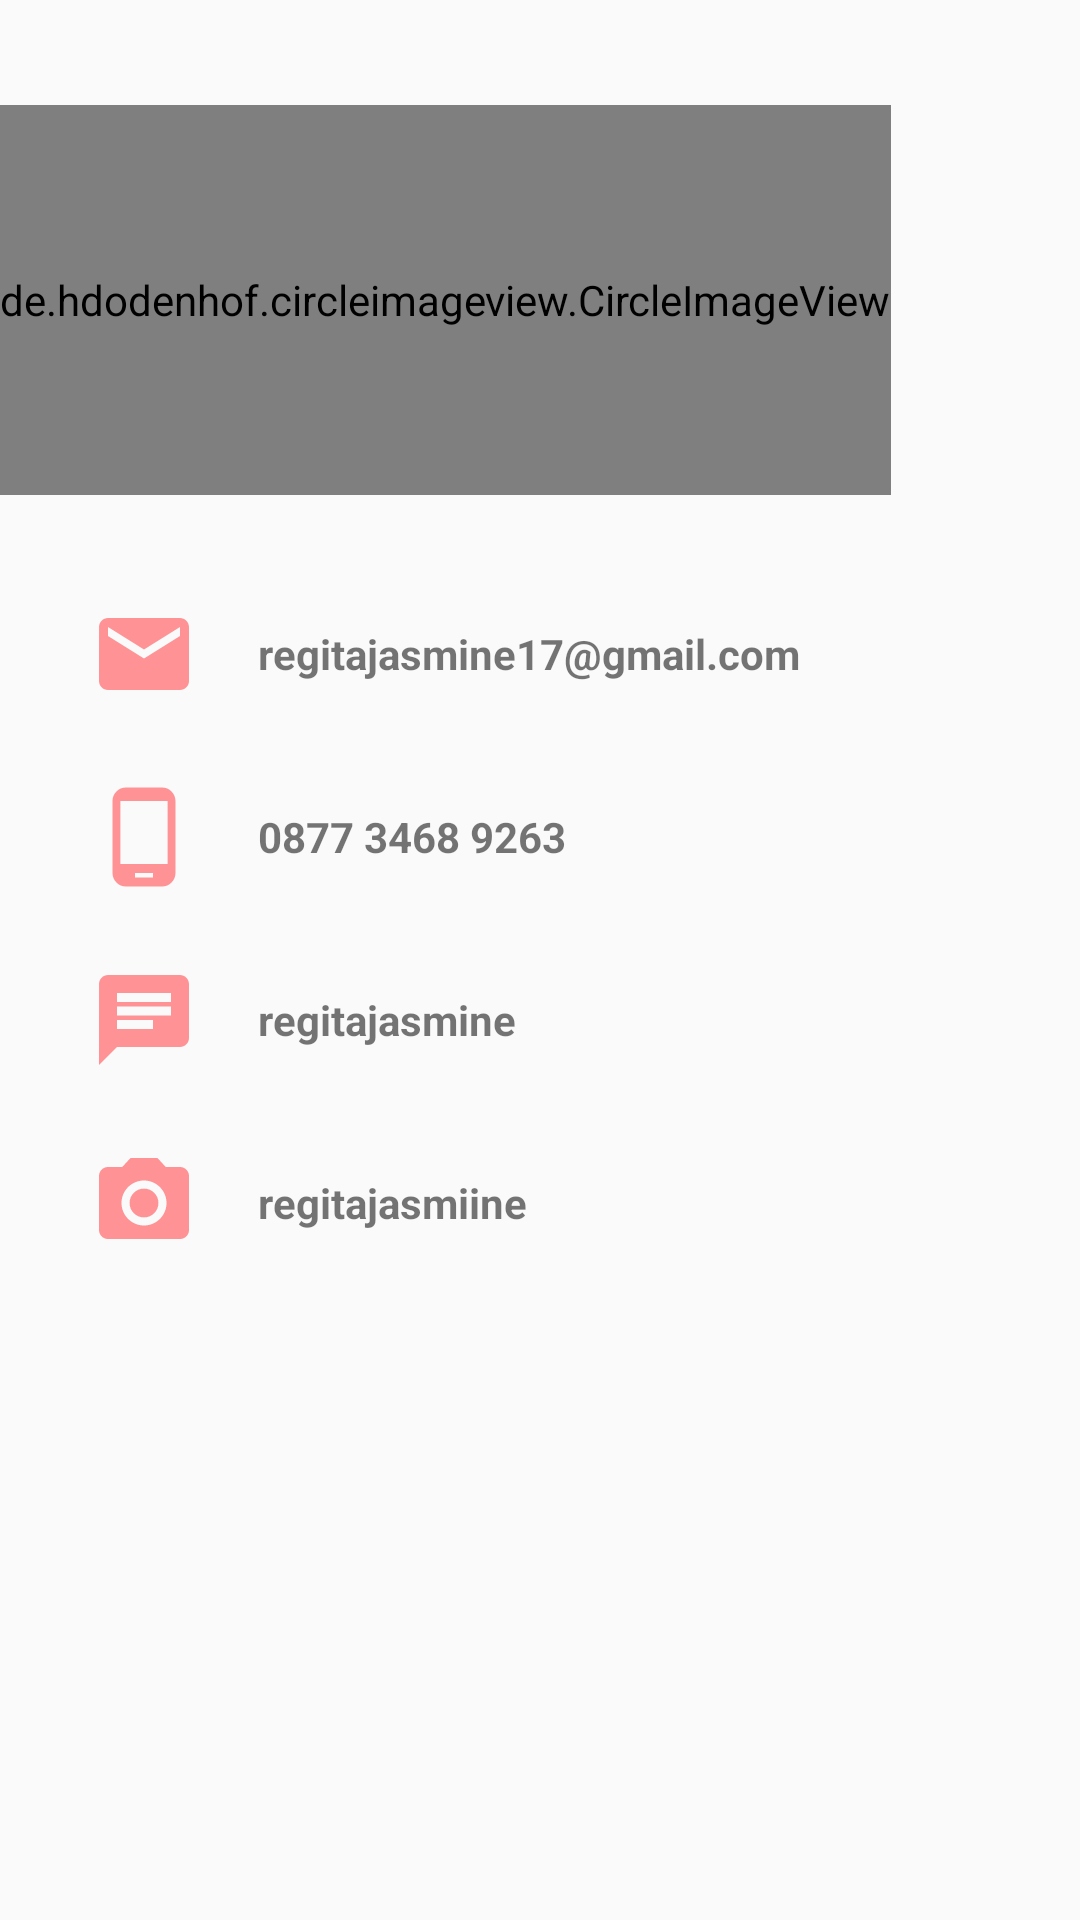

Point at icon controls on the screen. Image size 1080px×1920px, points as (x=x, y=y).
camera: (x=144, y=1198)
chat: (x=144, y=1020)
email: (x=144, y=654)
phone android: (x=144, y=837)
